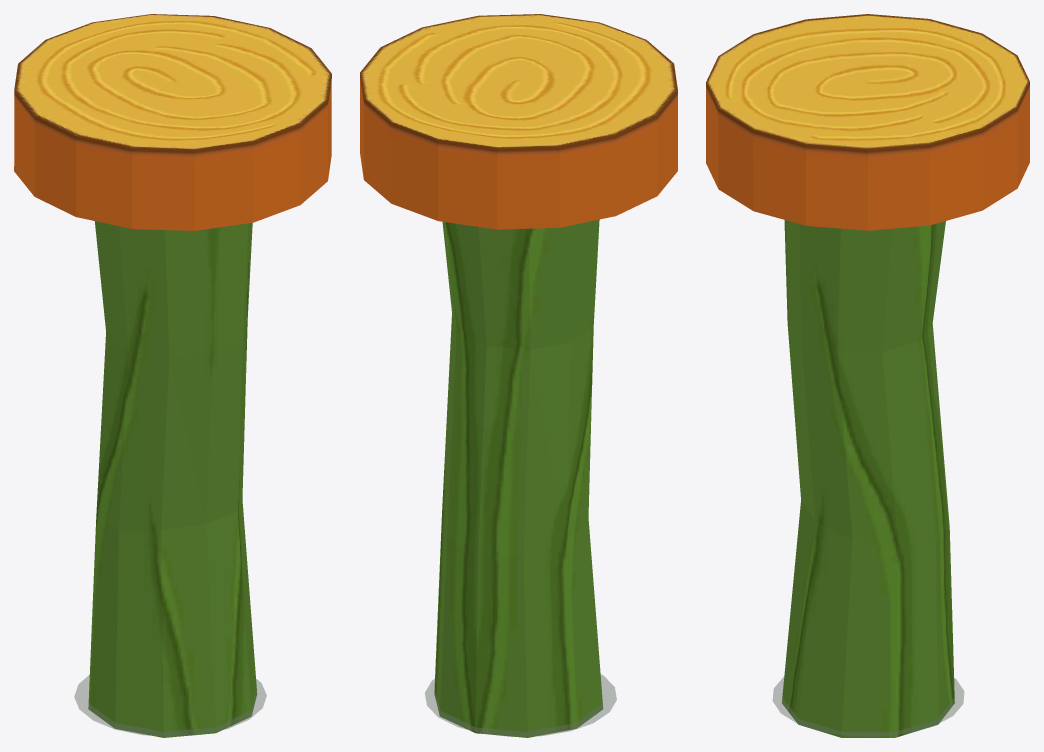
The model's file is WildberryKingdom_Chair.glb.
The picture shows the model from 3 angles, left to right: view 1: azimuth 30°, elevation 25°; view 2: azimuth 150°, elevation 25°; view 3: azimuth 270°, elevation 25°; orthographic projection.
Parts seen in each view (by area): view 1: WildberryKingdom_Chair, Chair_Shadow; view 2: WildberryKingdom_Chair, Chair_Shadow; view 3: WildberryKingdom_Chair, Chair_Shadow.
Part boxes in pixels (box(x1,y1,x2,y2)): WildberryKingdom_Chair: box(14, 14, 331, 737); Chair_Shadow: box(74, 675, 266, 736); WildberryKingdom_Chair: box(360, 14, 677, 737); Chair_Shadow: box(425, 674, 616, 736); WildberryKingdom_Chair: box(706, 14, 1029, 737); Chair_Shadow: box(772, 677, 964, 736).
Bounding box in the file's own units: 0.9092 × 1.95 × 0.9188.
Materials: 2 (2 with a texture image).
